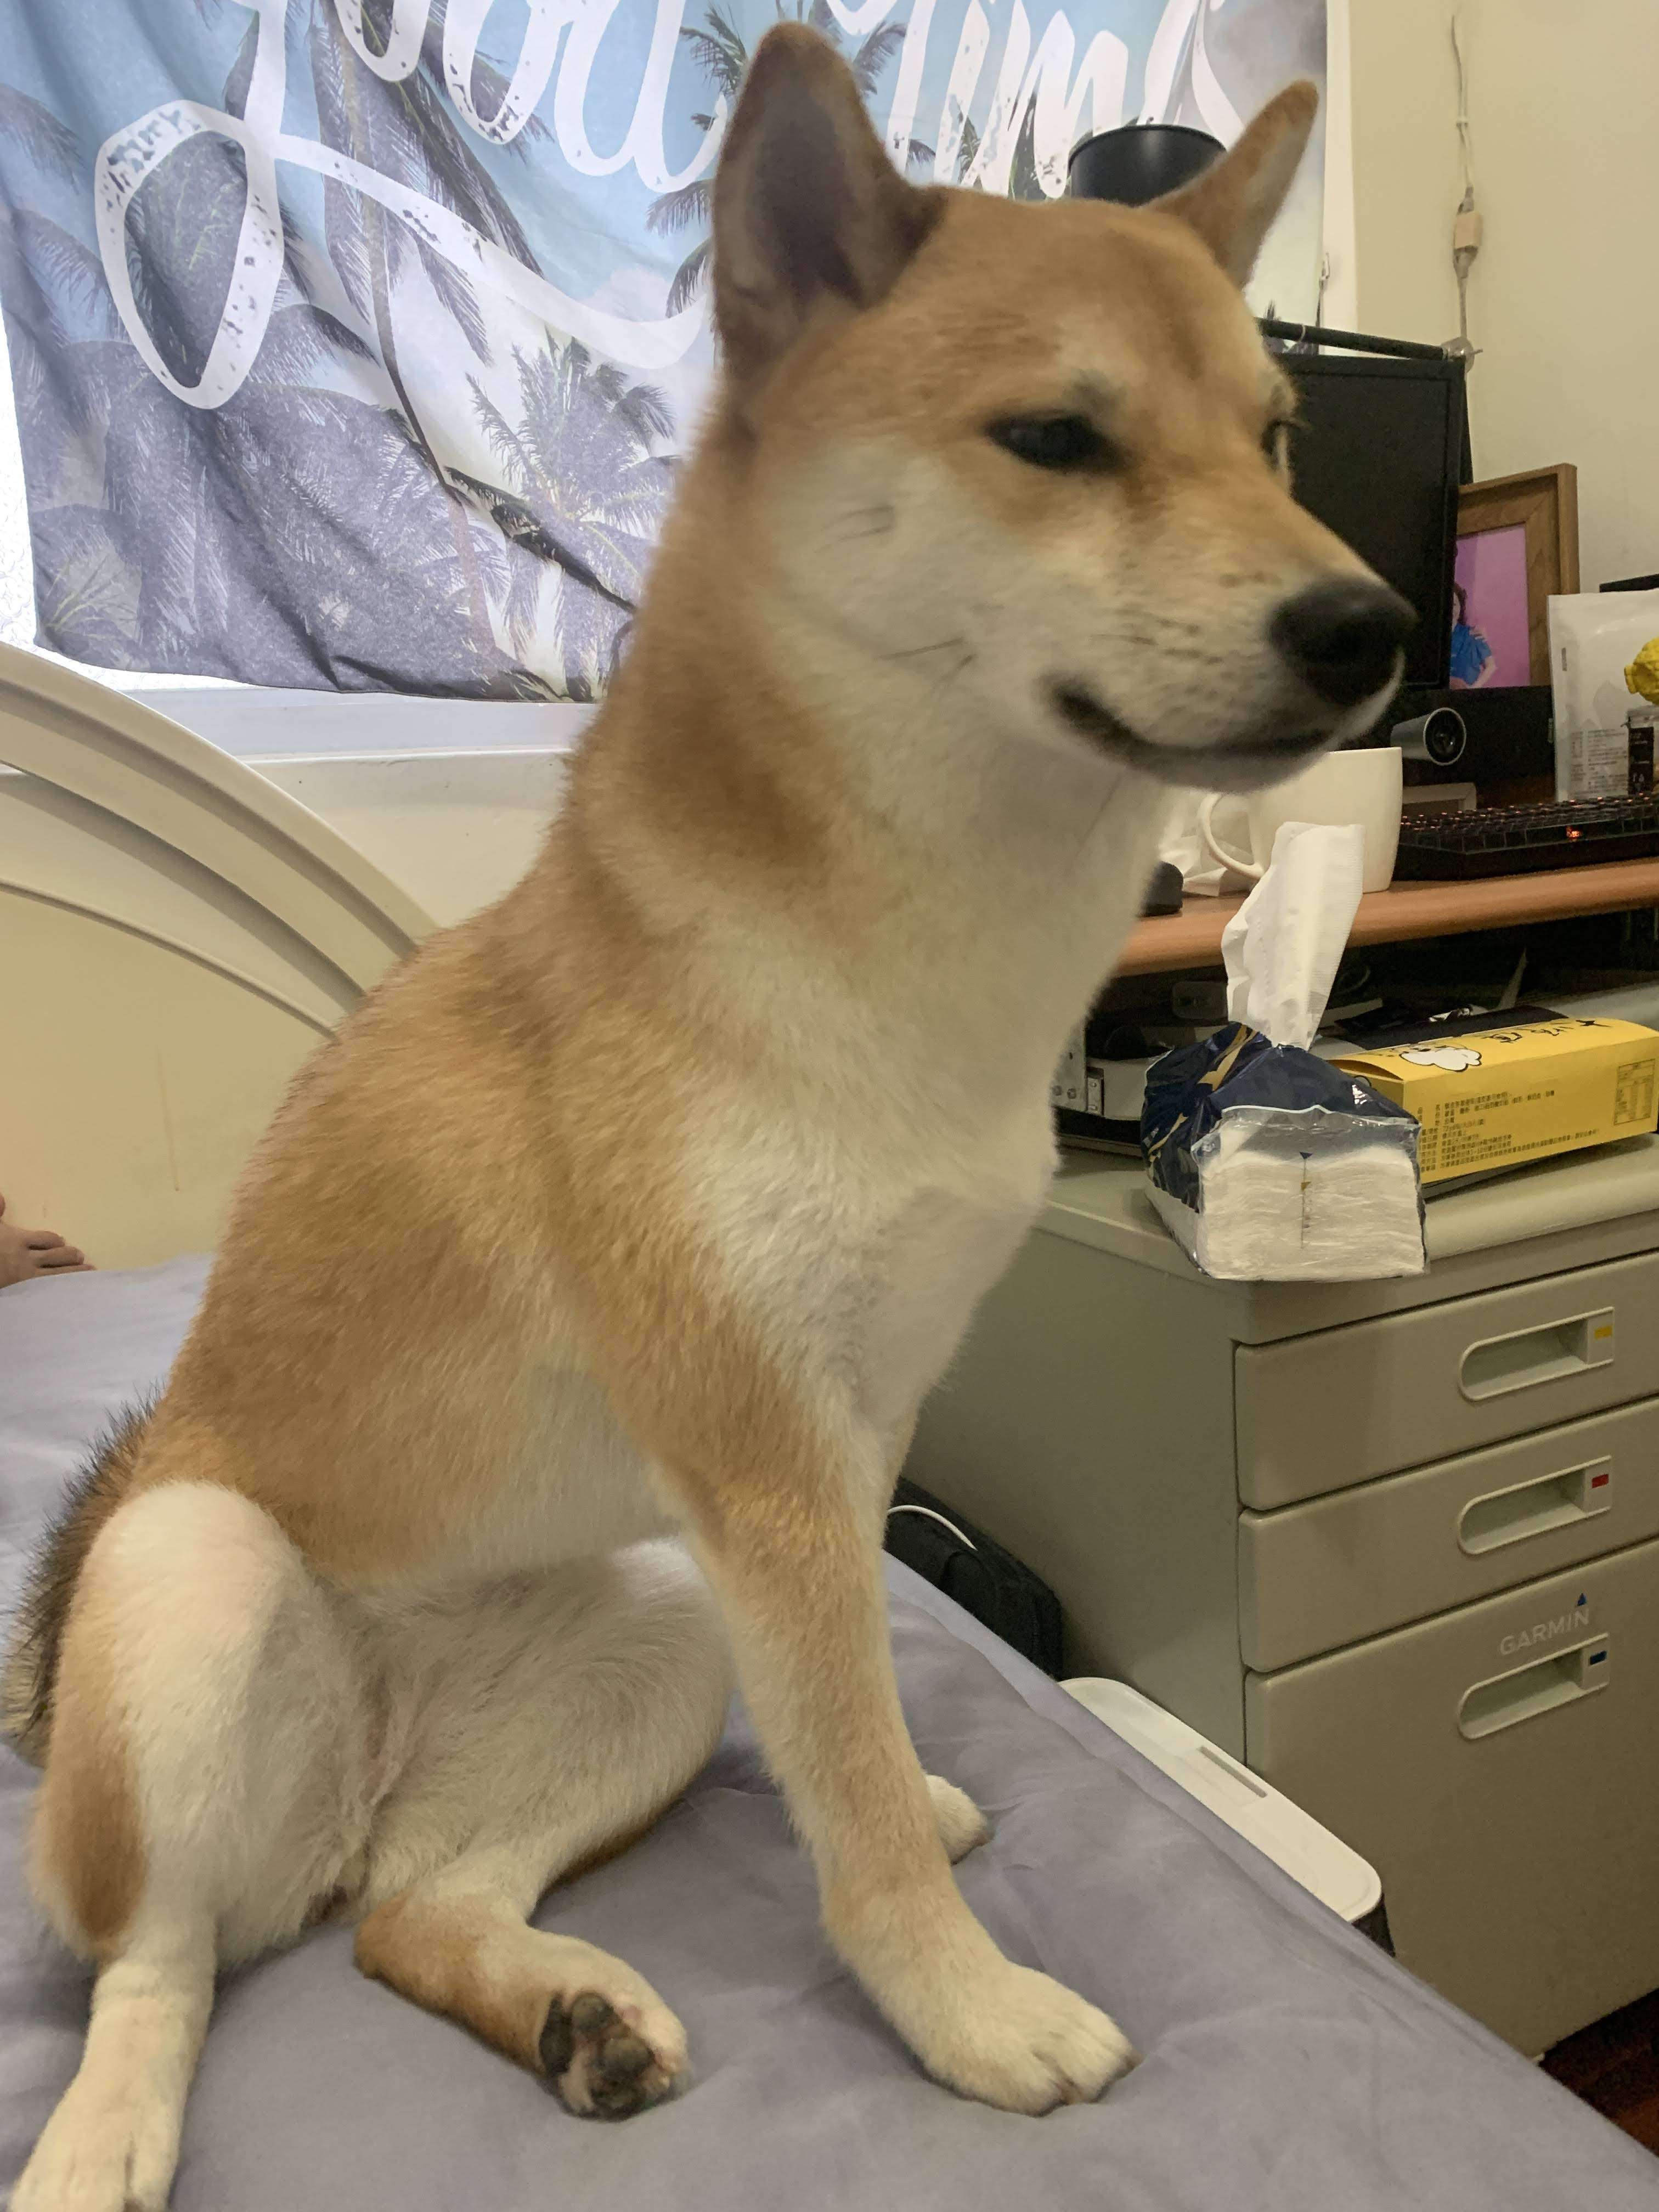Sit down: (24, 44, 1391, 2198)
